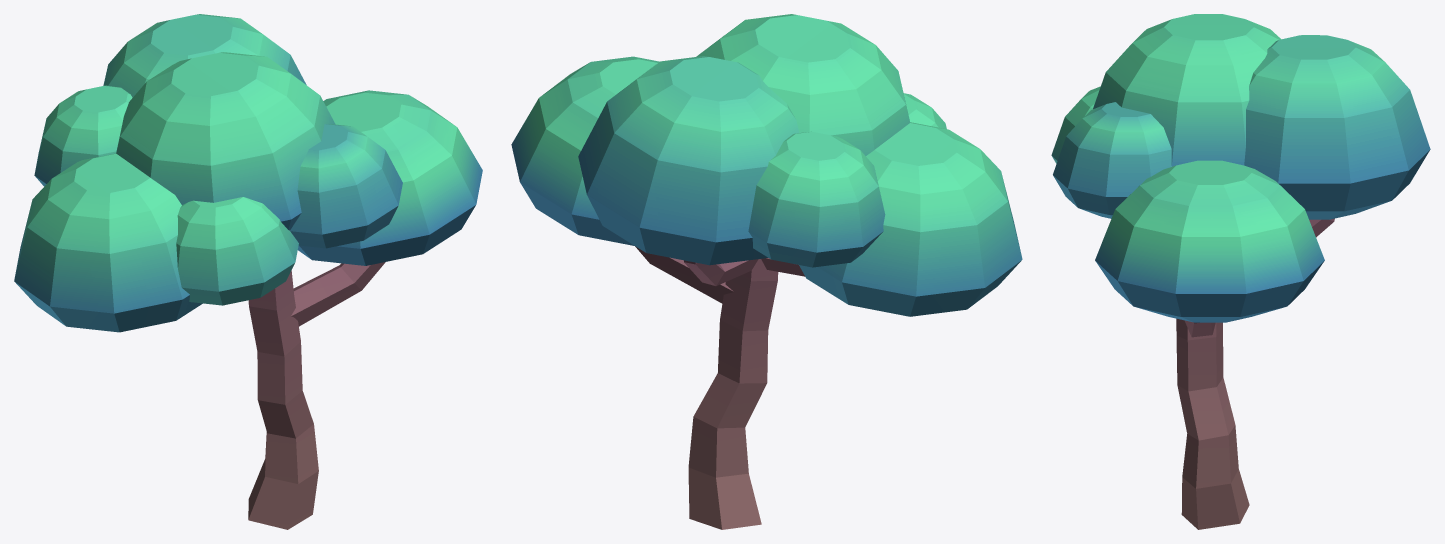
The model's file is tree003.obj.
3 renders of one model, left to right at view 1: azimuth 30°, elevation 25°; view 2: azimuth 150°, elevation 25°; view 3: azimuth 270°, elevation 25°, orthographic. The views are drawn at different scales.
Parts seen in each view (by area): view 1: tree.003; view 2: tree.003; view 3: tree.003.
Part boxes in pixels (left/top/right/bottom): tree.003: left=14, top=14, right=482, bottom=529; tree.003: left=511, top=14, right=1022, bottom=529; tree.003: left=1051, top=14, right=1430, bottom=529.
Size of the model in its own units: 14.01 by 14.28 by 10.58.
1 material, 1 textured.
